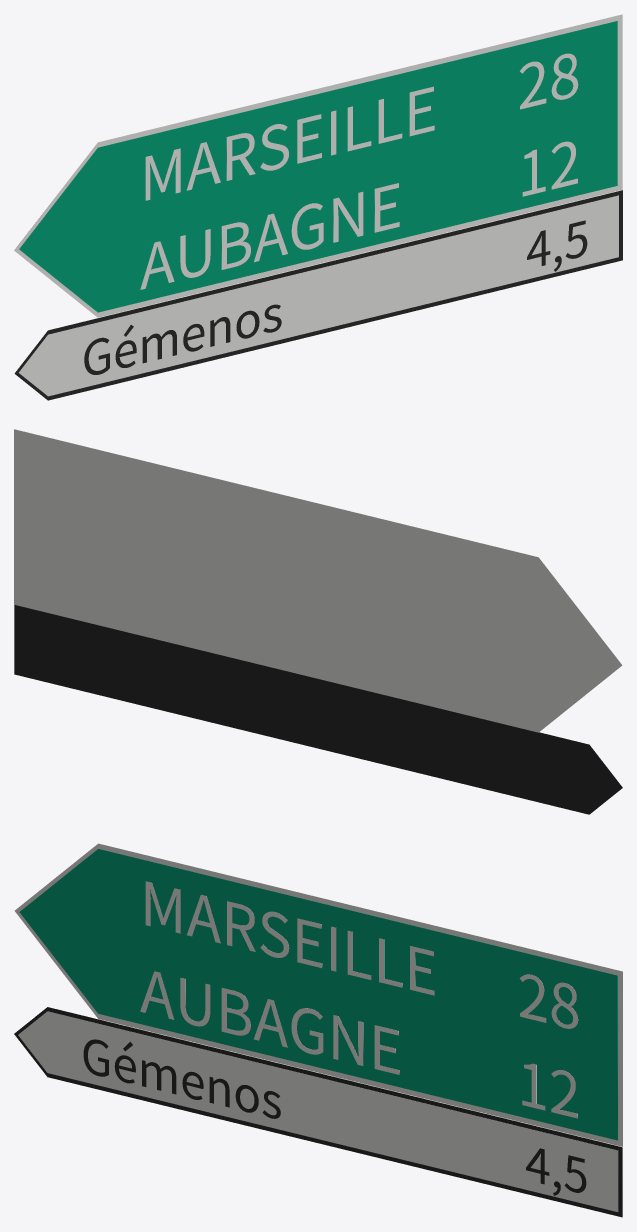
3 renders of one model, top to bottom at view 1: azimuth 30°, elevation 25°; view 2: azimuth 150°, elevation 25°; view 3: azimuth 330°, elevation 25°, orthographic.
Parts seen in each view (by area): view 1: D29_reg01, D29_reg07, D29_lis00, D29_lis06, D29_txt02, D29_txt04, D29_txt08, D29_txt03, D29_txt05, D29_txt09; view 2: D29_lis00, D29_lis06; view 3: D29_reg01, D29_reg07, D29_lis00, D29_lis06, D29_txt02, D29_txt04, D29_txt08, D29_txt03, D29_txt05, D29_txt09.
Boxes of the visible parts, x1,y1,x2,y2 form: D29_reg01: (19,21,617,312); D29_reg07: (18,195,618,396); D29_lis00: (14,14,622,317); D29_lis06: (14,190,622,400); D29_txt02: (145,86,434,200); D29_txt04: (140,183,399,289); D29_txt08: (84,304,281,374); D29_txt03: (519,53,578,109); D29_txt05: (522,141,577,196); D29_txt09: (527,220,587,271); D29_lis00: (14,429,622,732); D29_lis06: (14,605,622,814); D29_reg01: (19,849,617,1140); D29_reg07: (18,1011,618,1211); D29_lis00: (14,843,622,1146); D29_lis06: (14,1007,622,1217); D29_txt02: (145,881,434,995); D29_txt04: (140,971,399,1074); D29_txt08: (83,1039,280,1118); D29_txt03: (519,974,578,1028); D29_txt05: (522,1063,577,1118); D29_txt09: (526,1148,586,1195).
Size of the model in its own units: 1.81 by 0.7 by 0.004.
